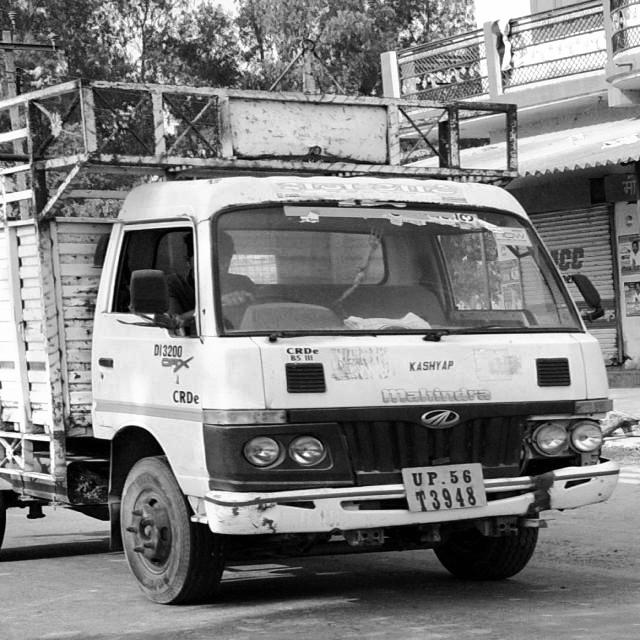HCV: (62, 110, 602, 608)
